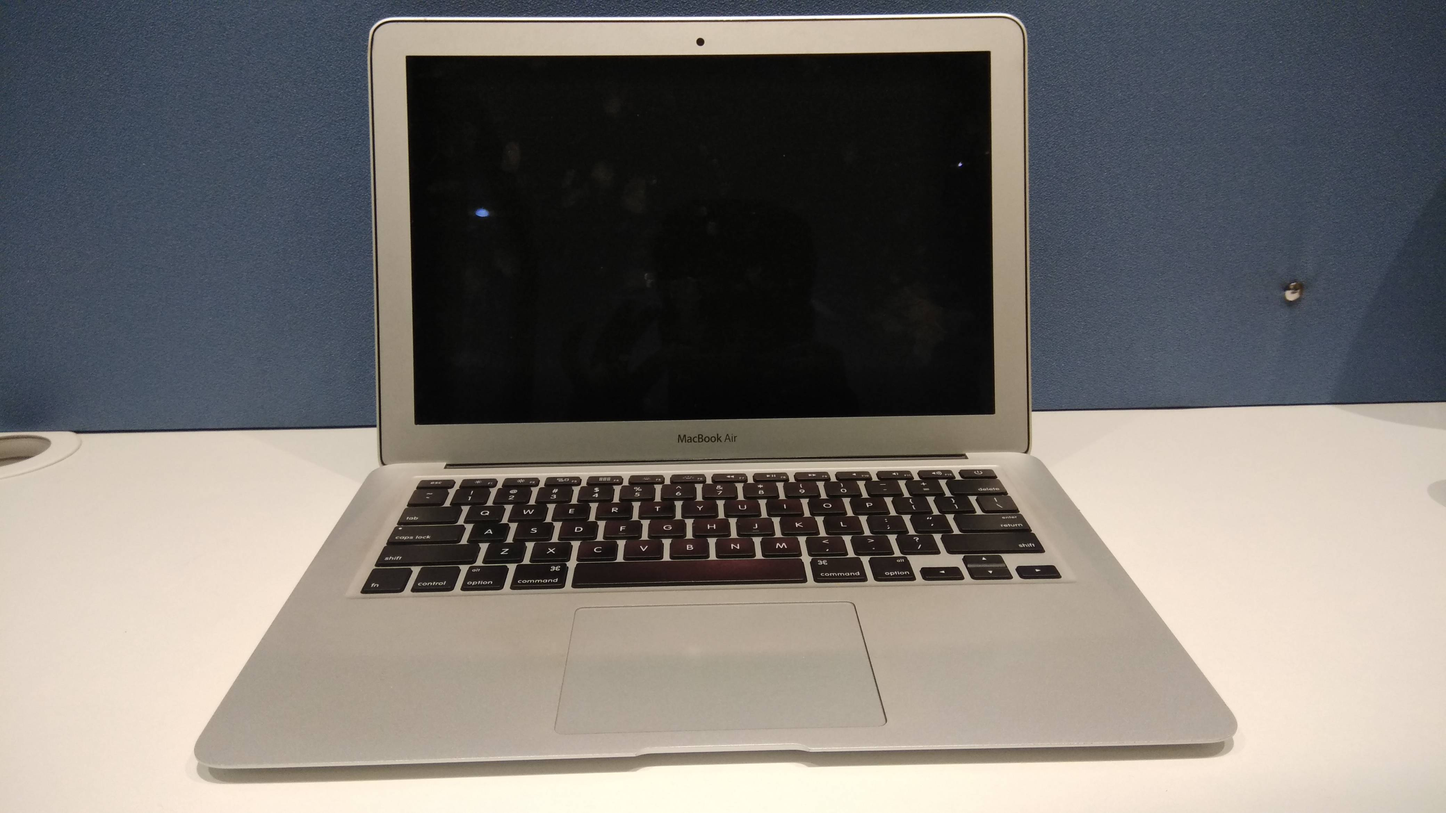Electronics: (179, 0, 1254, 795)
